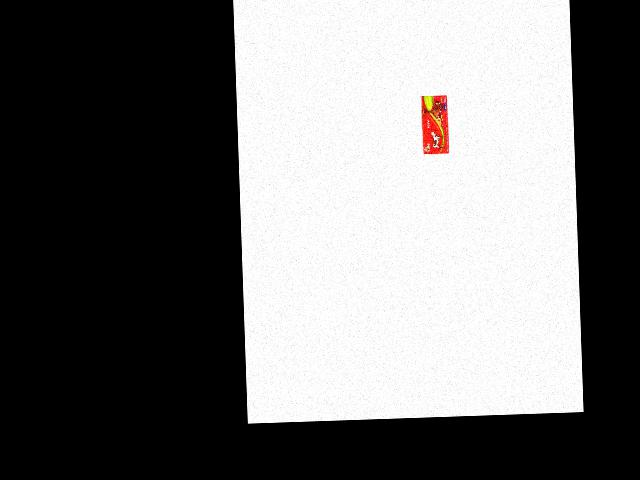chocolate: (419, 93, 454, 158)
